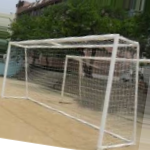goals: (3, 33, 139, 148)
